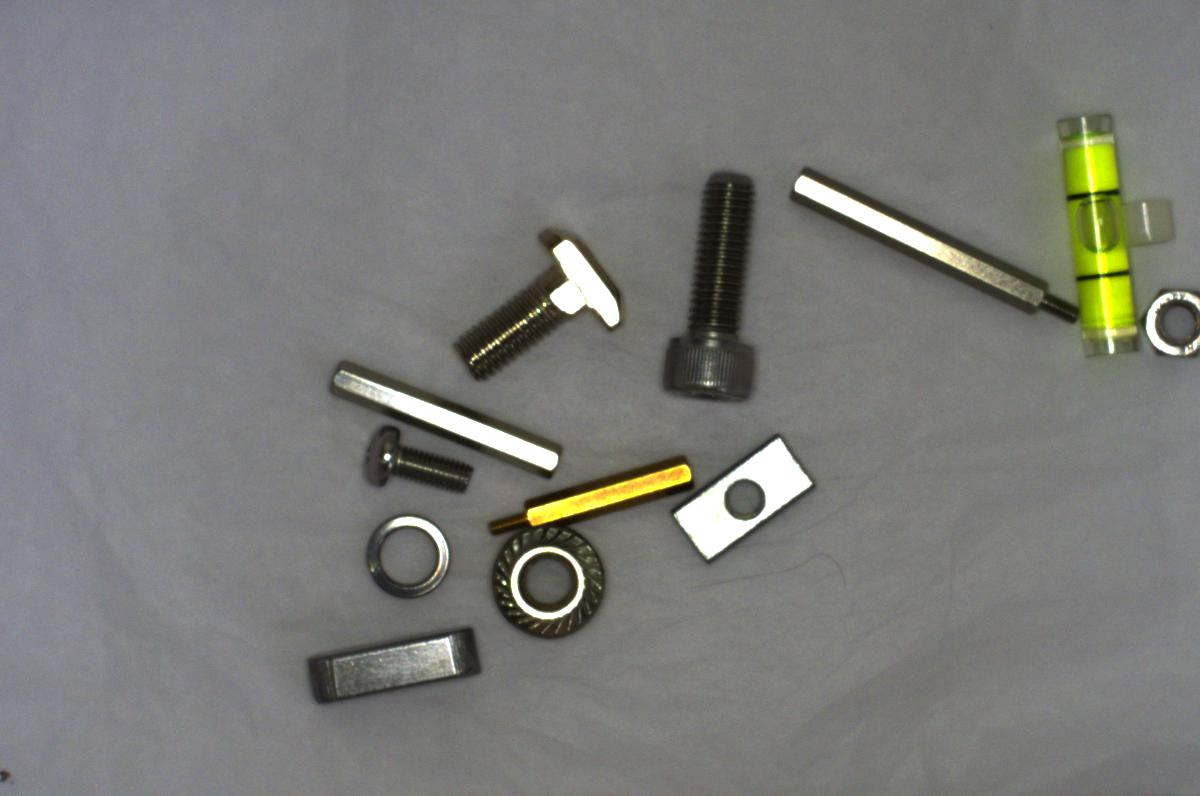Double hexagonal column: (312, 358, 567, 478)
Flange nut: (479, 522, 620, 653)
Hexagon nut: (1138, 278, 1192, 367)
Hexagon pillar: (478, 451, 694, 533)
Hexagon screw: (652, 163, 773, 409)
Hexagonal steel column: (771, 160, 1075, 336)
Horizontal bubble: (1048, 99, 1139, 364)
Keybar: (297, 614, 489, 713)
Plastic cushion pillar: (1110, 180, 1179, 254)
Rectangular nut: (664, 432, 820, 564)
Round head screw: (344, 413, 476, 496)
Spring washer: (353, 509, 457, 596)
T-shaped screw: (450, 215, 623, 385)
